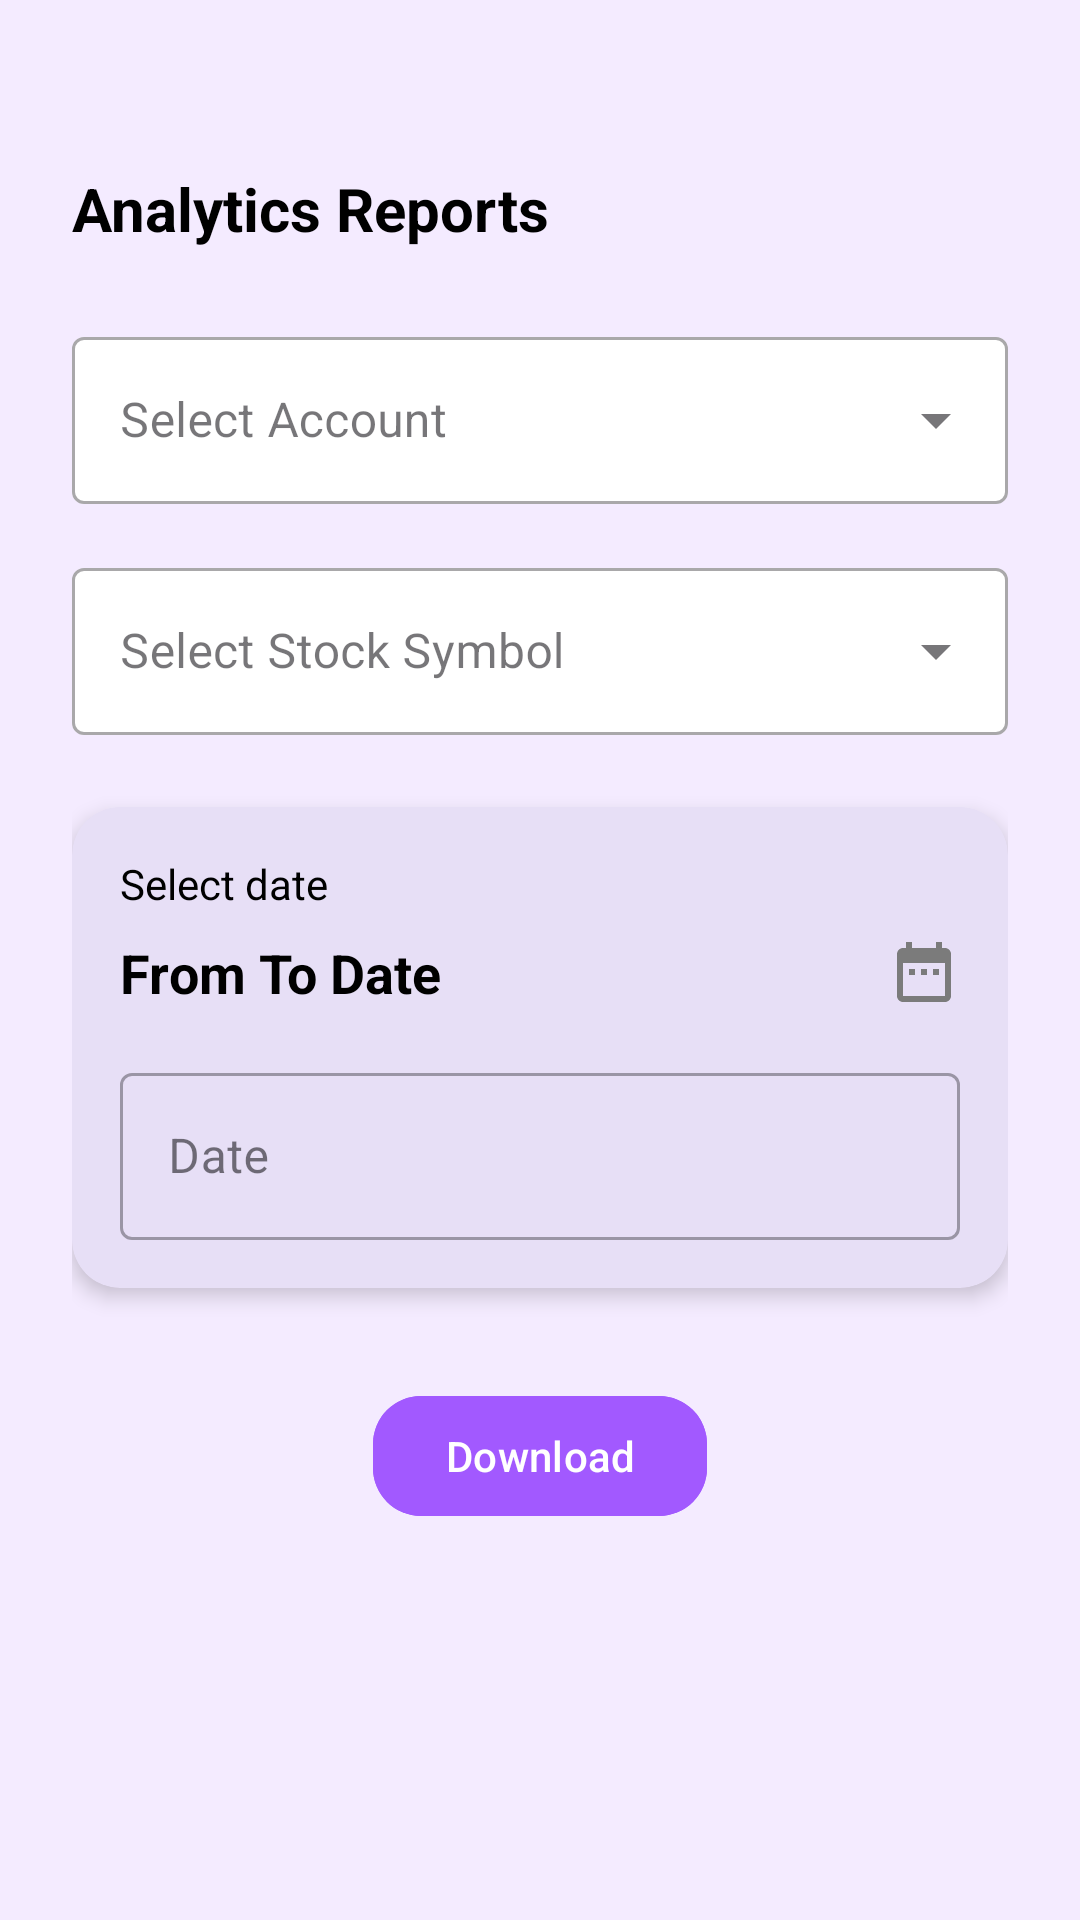

Locate icon controls on the screen. Image size 1080 × 1920, boxes as [x1,y1,x2,y2].
calendar: [897,942,951,1002]
